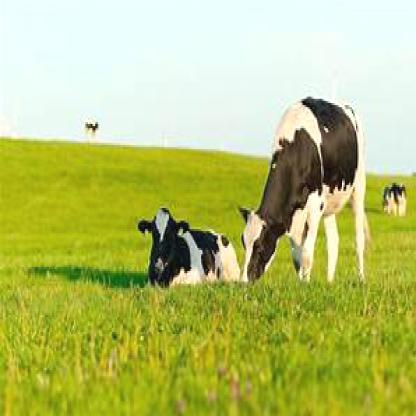cow: (237, 94, 373, 290), (133, 206, 243, 290), (384, 182, 409, 220), (82, 116, 105, 140)
